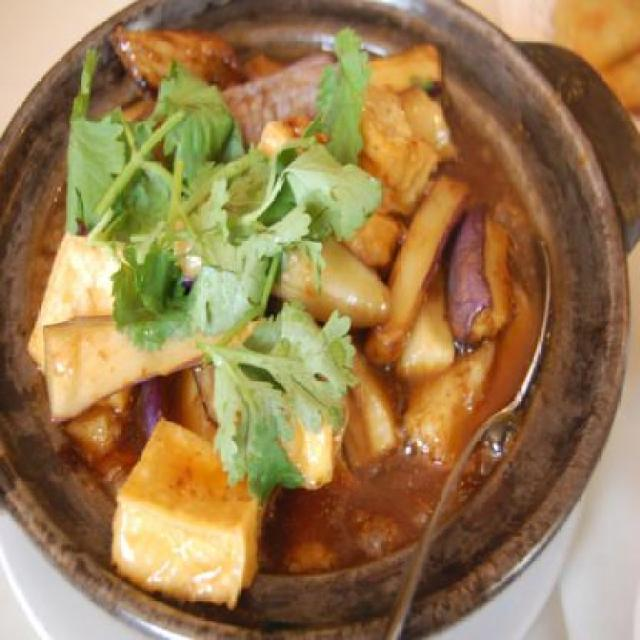Salad: (12, 18, 548, 600)
